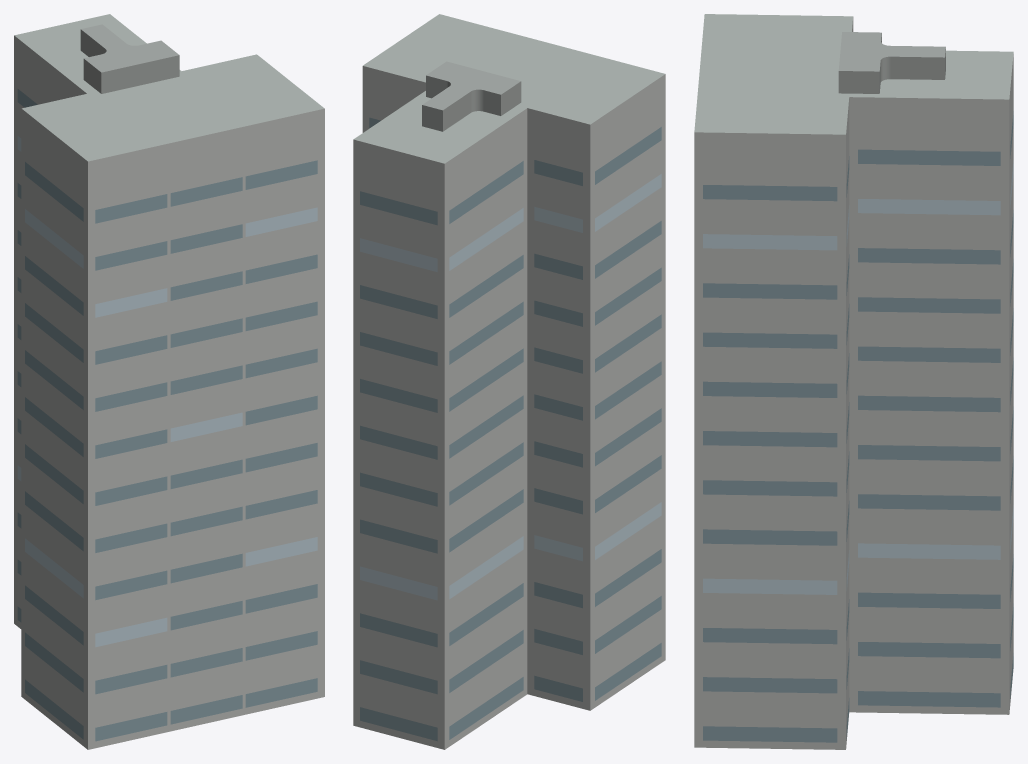
File: fallback-sk-bukhansan-city-138.glb
The picture shows the model from 3 angles, left to right: view 1: azimuth 30°, elevation 25°; view 2: azimuth 150°, elevation 25°; view 3: azimuth 270°, elevation 25°; orthographic projection. The views are drawn at different scales.
Parts seen in each view (by area): view 1: fallback-sk-bukhansan-city-138; view 2: fallback-sk-bukhansan-city-138; view 3: fallback-sk-bukhansan-city-138.
Boxes of the visible parts, left/top/right/bottom form: fallback-sk-bukhansan-city-138: left=14, top=14, right=324, bottom=749; fallback-sk-bukhansan-city-138: left=353, top=14, right=665, bottom=749; fallback-sk-bukhansan-city-138: left=694, top=14, right=1013, bottom=749.
Size of the model in its own units: 27.63 by 68 by 30.89.
